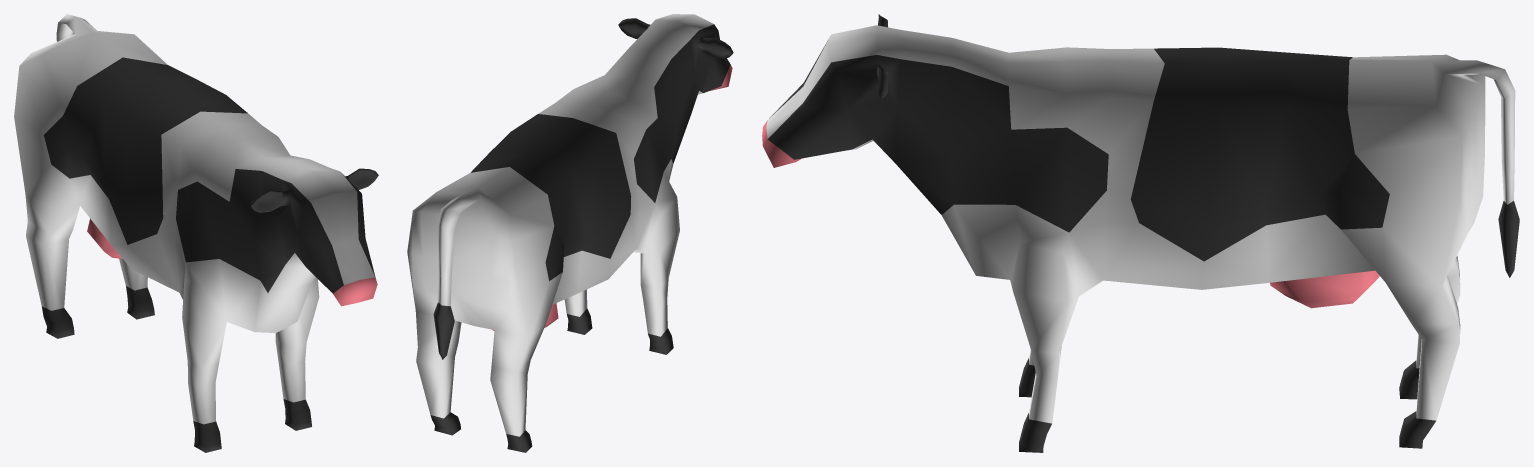
File: Cow.gltf
The picture shows the model from 3 angles, left to right: view 1: azimuth 30°, elevation 25°; view 2: azimuth 150°, elevation 25°; view 3: azimuth 270°, elevation 25°; orthographic projection. The views are drawn at different scales.
Visible parts, largest first — view 1: Node1; view 2: Node1; view 3: Node1.
Part boxes in pixels (<box>): Node1: <box>14,14,378,452</box>; Node1: <box>407,14,733,452</box>; Node1: <box>762,14,1519,452</box>.
Size of the model in its own units: 2.27 by 5.15 by 9.17.
